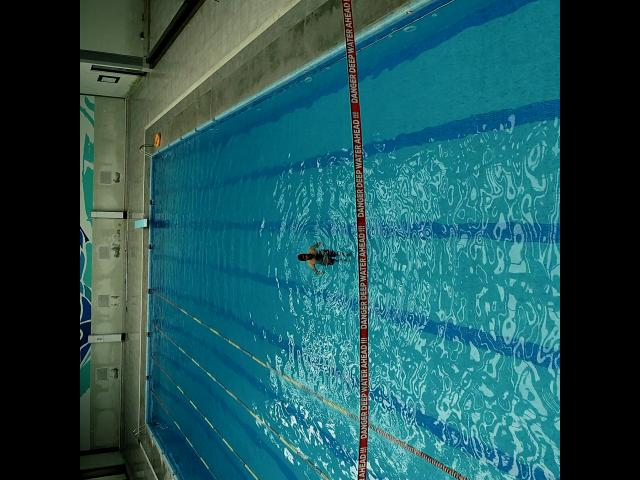swimming: (296, 241, 352, 272)
